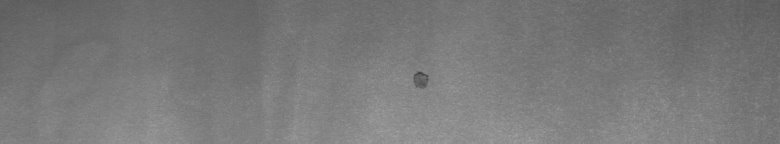fi: (406, 64, 432, 95)
